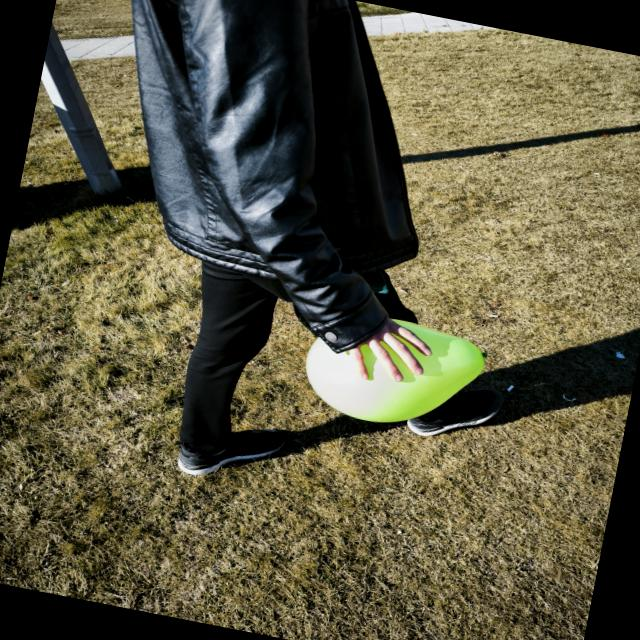balloon: (296, 302, 492, 440)
